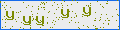y: (22, 14, 31, 26), (36, 15, 45, 27), (82, 6, 92, 16), (60, 8, 69, 19), (6, 11, 15, 21)
